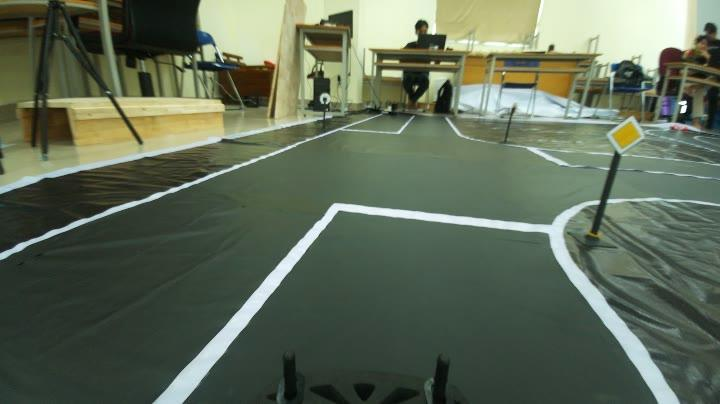priority: (600, 112, 650, 155)
